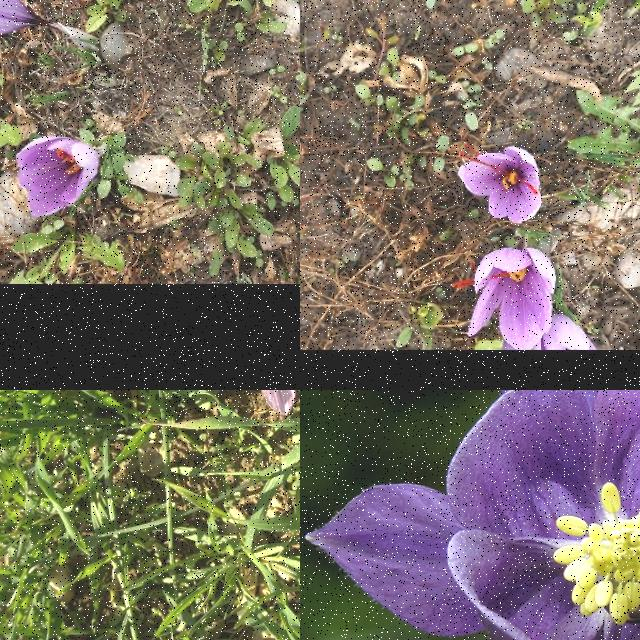flower: (448, 248, 558, 350), (456, 141, 544, 225), (16, 136, 100, 220), (502, 313, 598, 352)
